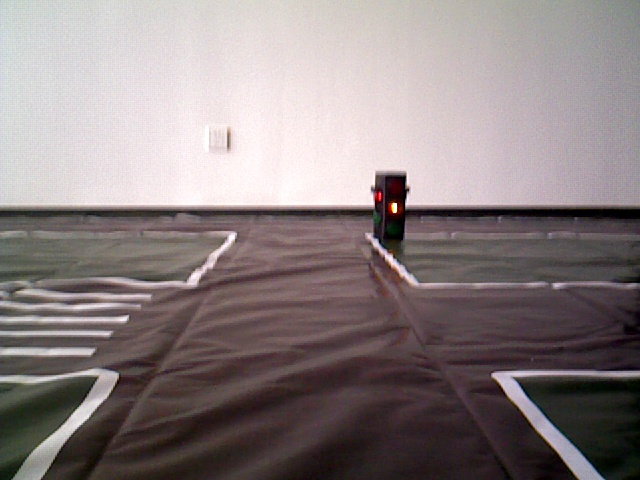yellow: (372, 172, 404, 241)
